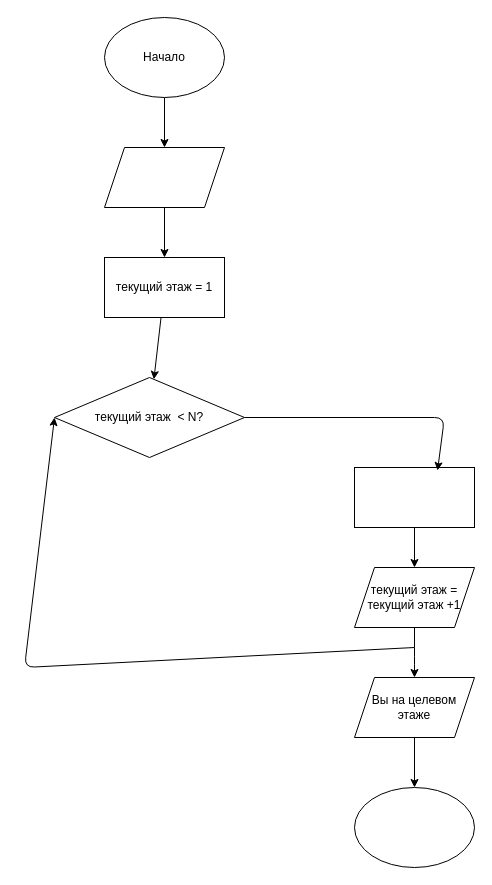
Image size: 492x885. Some labels were removed from this diagram. Each missing label, with the box of its shape:
Конец: (354, 786, 474, 868)
Подняться на этаж выше: (354, 466, 474, 528)
